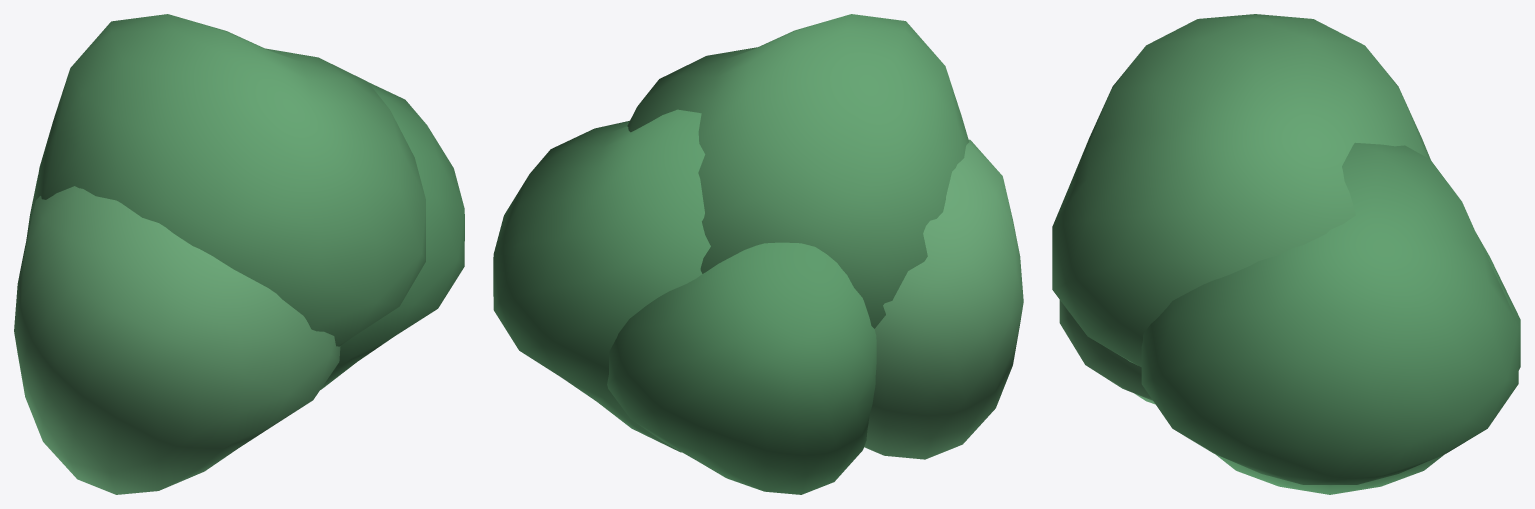
File: tropical_bush.glb
The picture shows the model from 3 angles, left to right: view 1: azimuth 30°, elevation 25°; view 2: azimuth 150°, elevation 25°; view 3: azimuth 270°, elevation 25°; orthographic projection. The views are drawn at different scales.
Parts seen in each view (by area): view 1: geometry_0; view 2: geometry_0; view 3: geometry_0.
Boxes of the visible parts, box(x1,y1,x2,y2) form: geometry_0: box(14, 14, 464, 494); geometry_0: box(493, 14, 1023, 494); geometry_0: box(1052, 14, 1520, 494).
Size of the model in its own units: 2.08 by 1.91 by 1.89.
